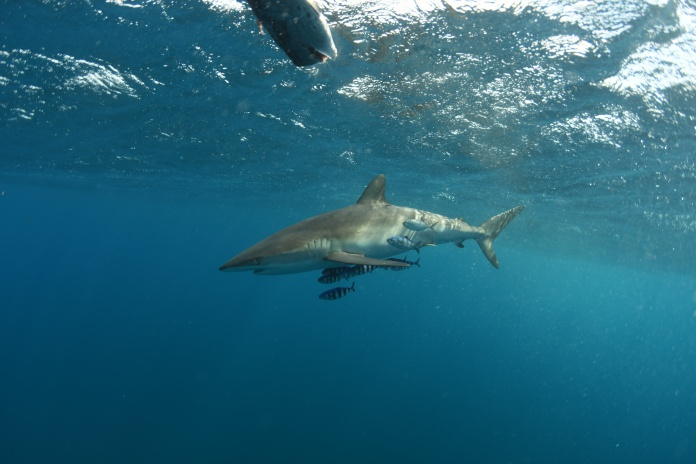Sedoso: (212, 170, 539, 286)
